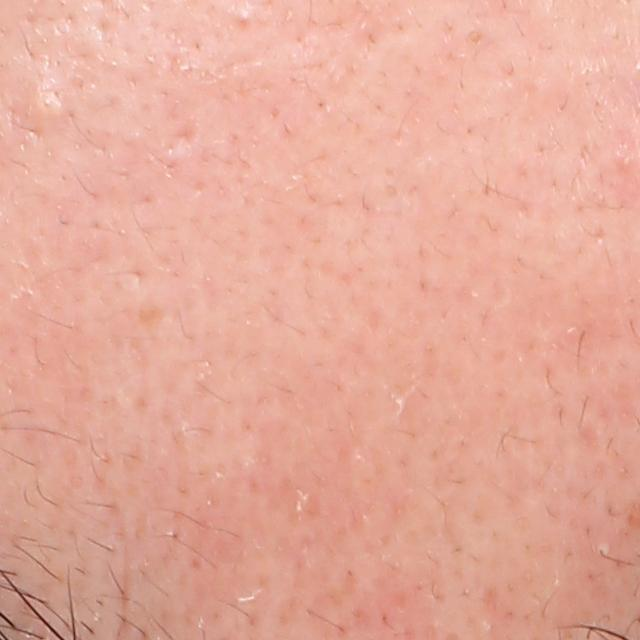comedo: (32, 89, 68, 119), (232, 8, 260, 31)
